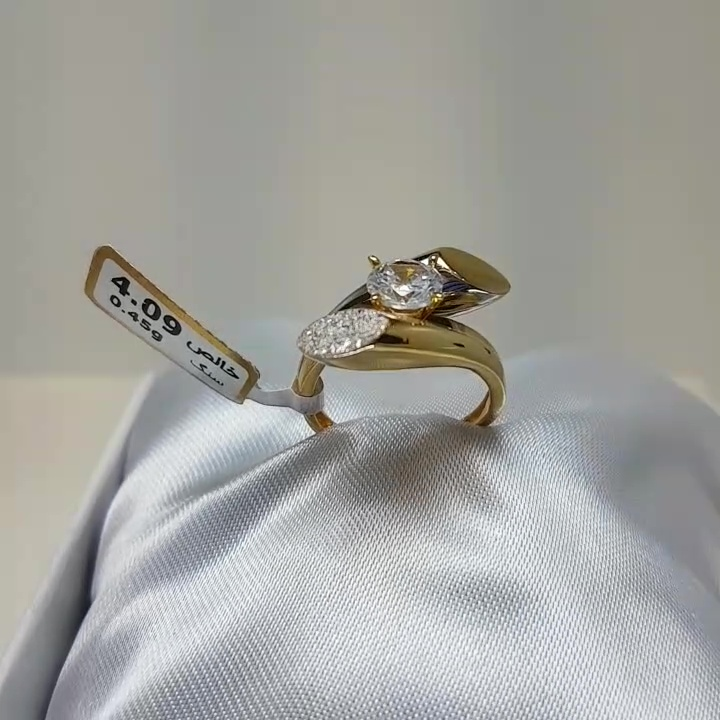Ring 7: (261, 222, 543, 467)
